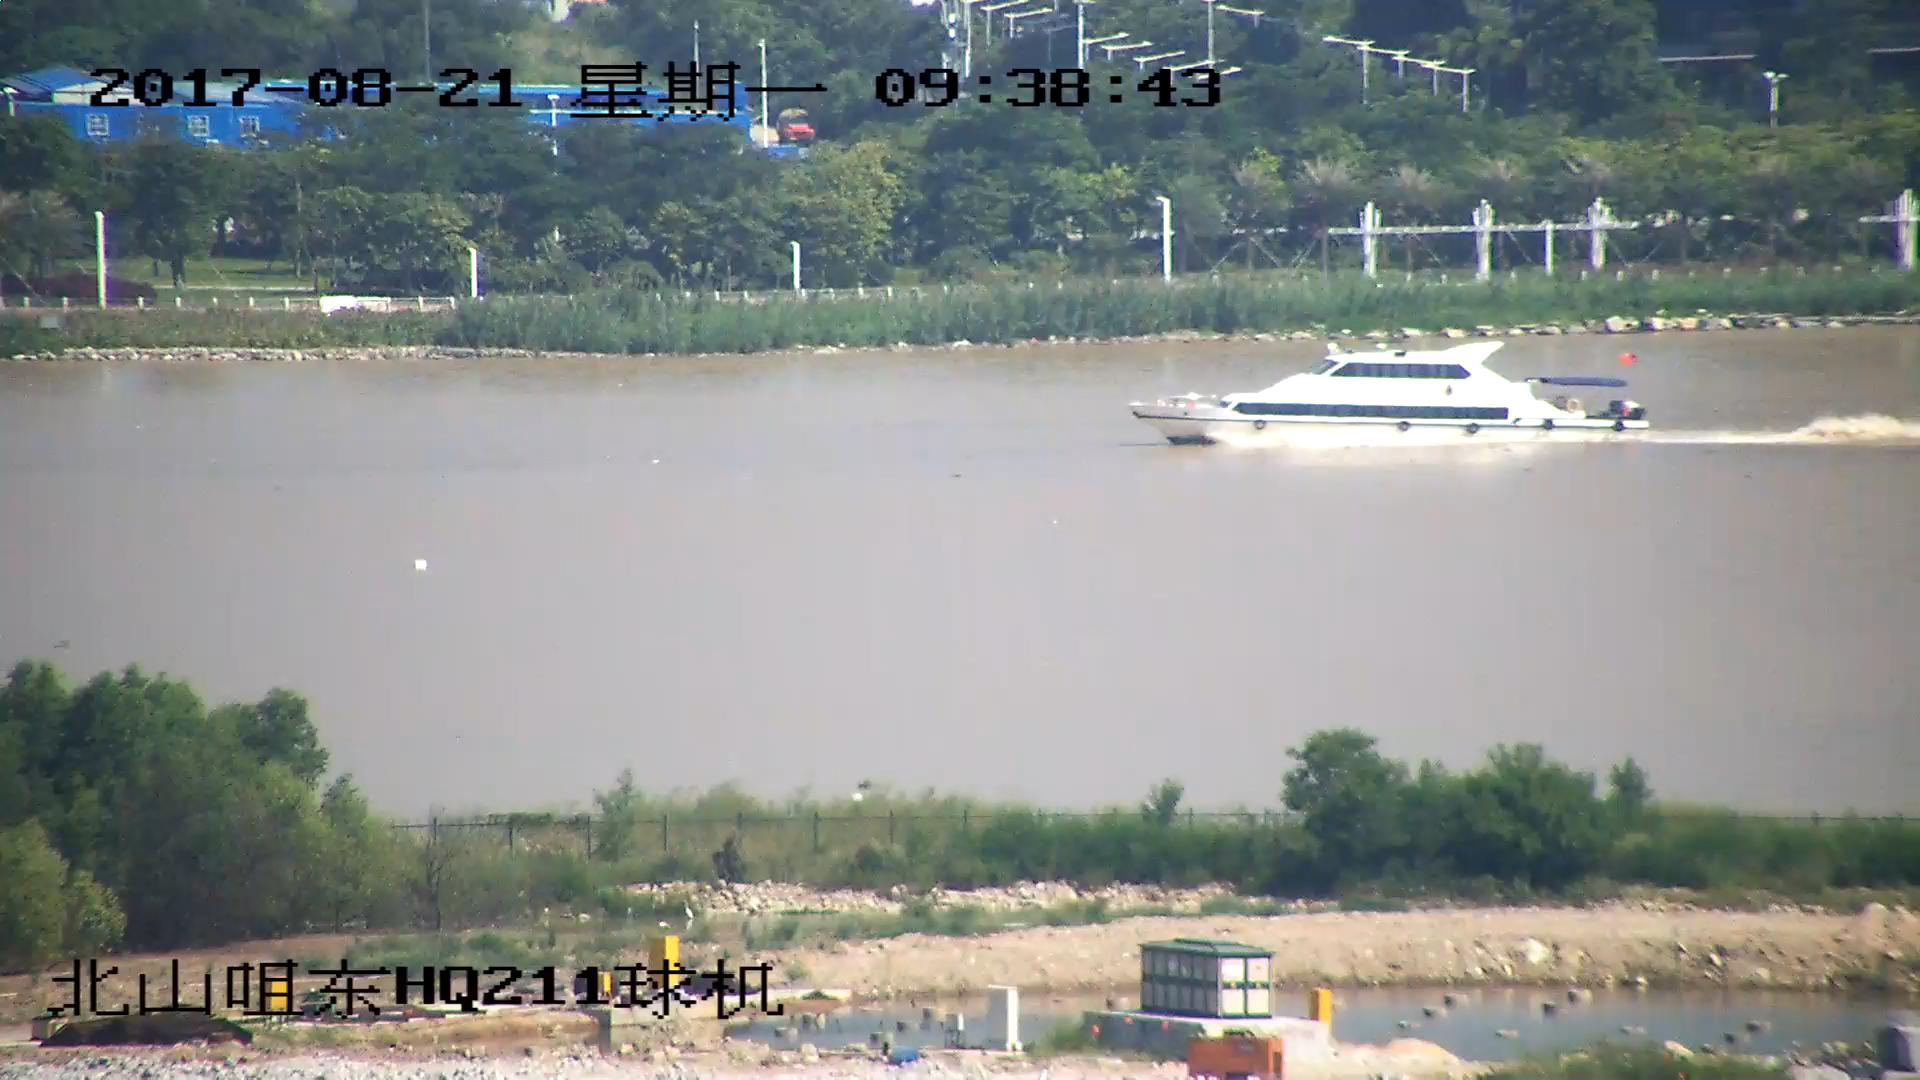passenger ship: (1126, 343, 1652, 453)
